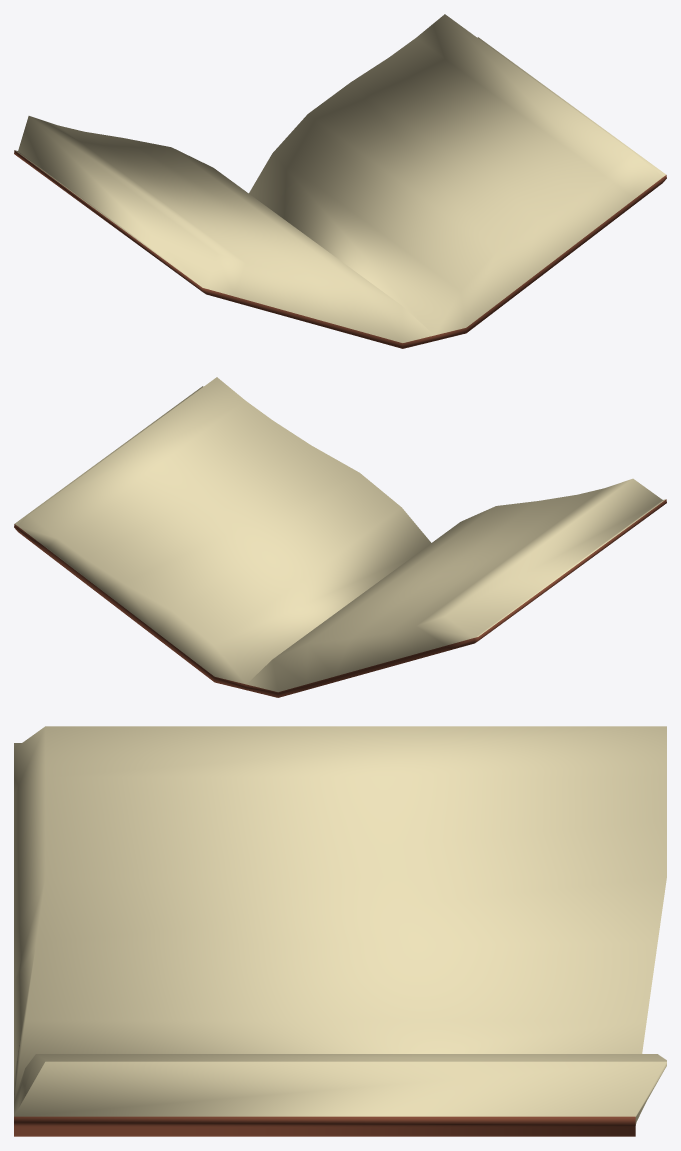
Rendered from Book.fbx.
3 views of the same model, one above another, from view 1: azimuth 30°, elevation 25°; view 2: azimuth 150°, elevation 25°; view 3: azimuth 270°, elevation 25° (orthographic). The views are drawn at different scales.
Parts seen in each view (by area): view 1: Book; view 2: Book; view 3: Book.
Boxes of the visible parts, x1,y1,x2,y2 form: Book: [14, 14, 666, 348]; Book: [14, 377, 666, 697]; Book: [14, 726, 666, 1136].
Bounding box in the file's own units: 285 × 77.13 × 210.
